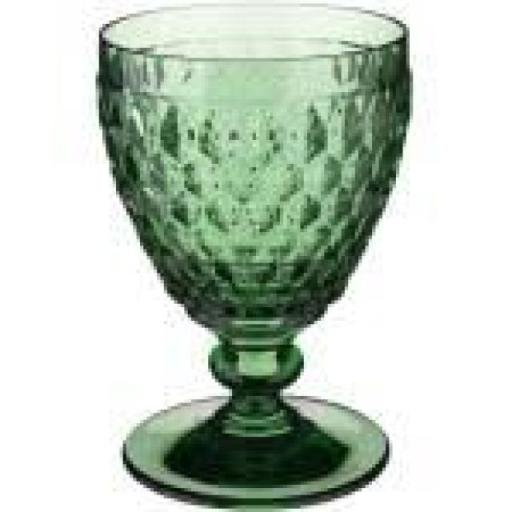glass: (90, 0, 420, 512)
